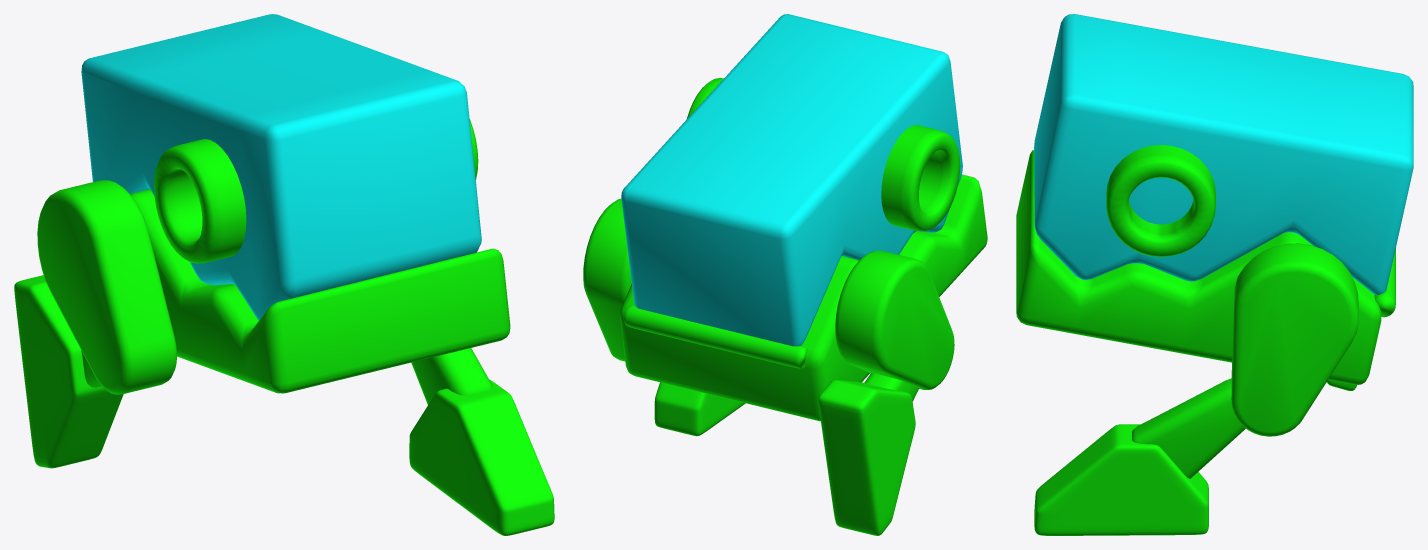
3 renders of one model, left to right at view 1: azimuth 30°, elevation 25°; view 2: azimuth 150°, elevation 25°; view 3: azimuth 270°, elevation 25°, orthographic. The views are drawn at different scales.
Visible parts, largest first — view 1: Top_Jaw, Lower_Jaw, Thighs_Left, Feet_Right, Feet_Left, Eyes, Shin_Right; view 2: Top_Jaw, Lower_Jaw, Thighs_Left, Feet_Left, Eyes, Thighs_Right, Hinge, Feet_Right, Shin_Left; view 3: Top_Jaw, Lower_Jaw, Thighs_Right, Feet_Right, Eyes, Shin_Right, Hinge.
Boxes of the visible parts, x1,y1,x2,y2 form: Top_Jaw: [81, 14, 481, 320]; Lower_Jaw: [130, 189, 510, 393]; Thighs_Left: [37, 180, 176, 394]; Feet_Right: [409, 379, 554, 535]; Feet_Left: [14, 275, 123, 468]; Eyes: [154, 119, 478, 263]; Shin_Right: [411, 348, 492, 404]; Top_Jaw: [621, 14, 962, 346]; Lower_Jaw: [620, 174, 987, 421]; Thighs_Left: [835, 250, 954, 389]; Feet_Left: [818, 380, 915, 535]; Eyes: [687, 78, 960, 231]; Thighs_Right: [583, 198, 631, 361]; Hinge: [624, 305, 807, 368]; Feet_Right: [654, 382, 745, 436]; Shin_Left: [864, 373, 918, 401]; Top_Jaw: [1034, 14, 1413, 295]; Lower_Jaw: [1016, 150, 1381, 384]; Thighs_Right: [1231, 243, 1358, 436]; Feet_Right: [1034, 424, 1208, 535]; Eyes: [1106, 145, 1215, 256]; Shin_Right: [1131, 378, 1245, 478]; Hinge: [1374, 248, 1395, 317].
Bounding box in the file's own units: 2.03 × 2.49 × 2.2.
